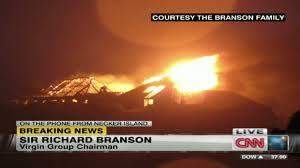fire: (172, 58, 224, 95)
